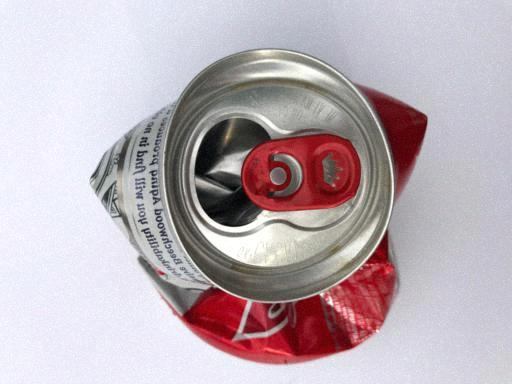metal: (92, 47, 429, 369)
